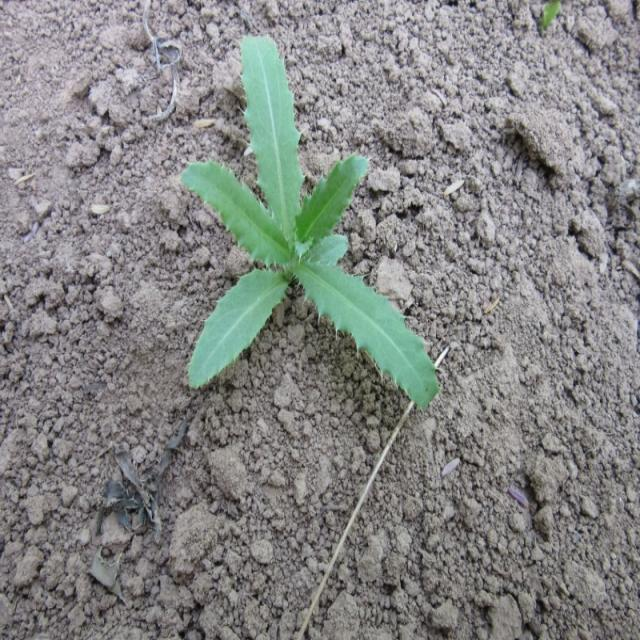cs: (179, 31, 443, 418)
